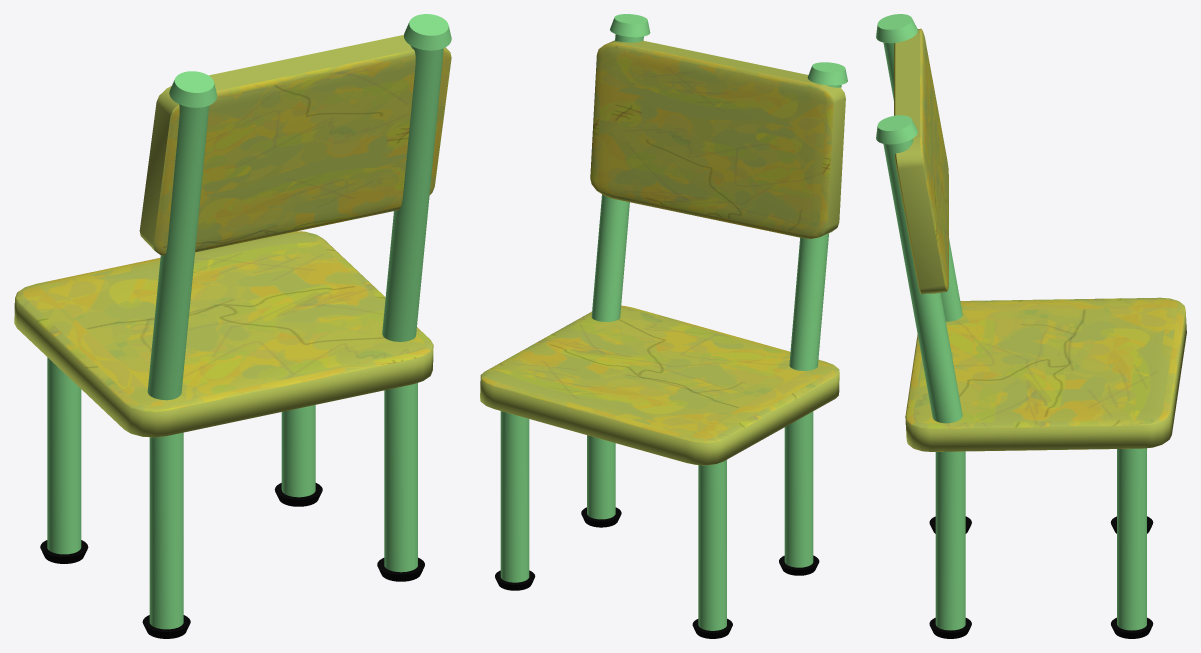
The model's file is SillaVerde.fbx.
3 views of the same model, side by side, from view 1: azimuth 30°, elevation 25°; view 2: azimuth 150°, elevation 25°; view 3: azimuth 270°, elevation 25° (orthographic). The views are drawn at different scales.
Visible parts, largest first — view 1: Roundcube.001; view 2: Roundcube.001; view 3: Roundcube.001.
Part boxes in pixels (x1,y1,x2,y2): Roundcube.001: [14, 14, 451, 638]; Roundcube.001: [480, 14, 847, 638]; Roundcube.001: [876, 14, 1186, 638].
Size of the model in its own units: 367 by 653 by 361.
3 materials, 1 textured.
